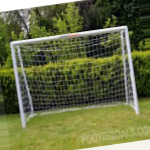goals: (9, 24, 143, 126)
